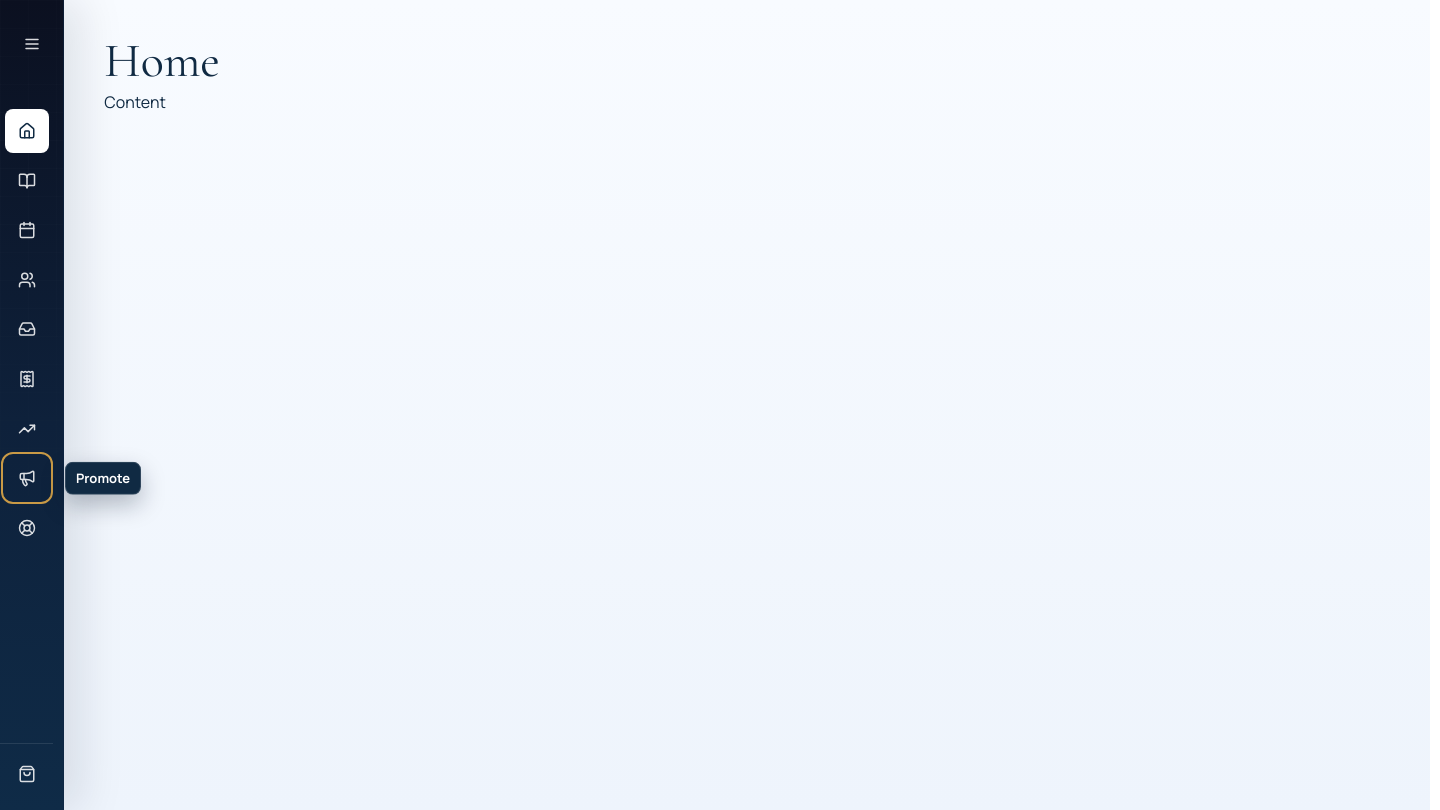
Scenario: still expands a collapsed desktop sidebar when a group is requested
Click the button with aria-label "Open Promote navigation": point(26, 478) [4, 456, 48, 500]
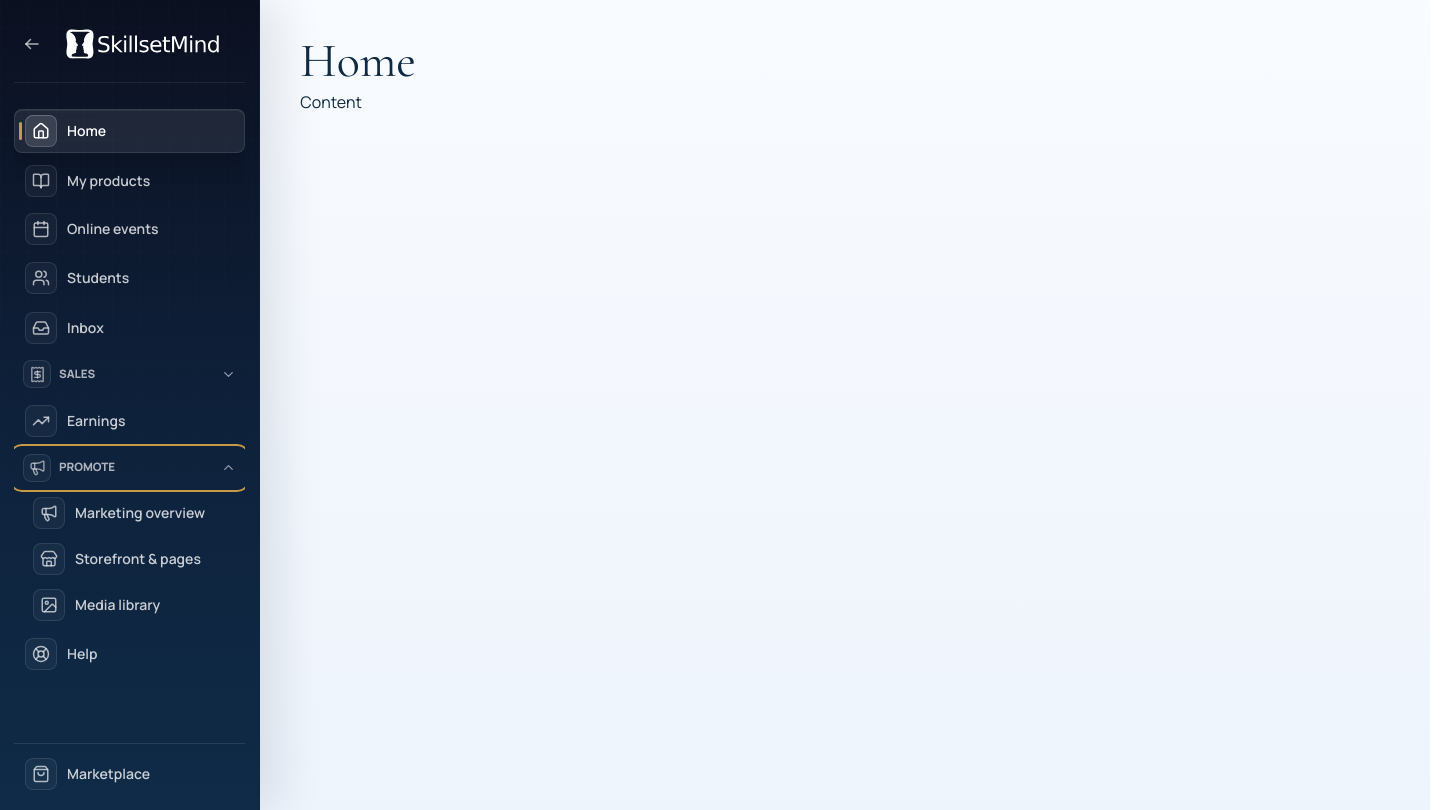
Now the button "Promote" is expanded, box [14, 449, 245, 487]
